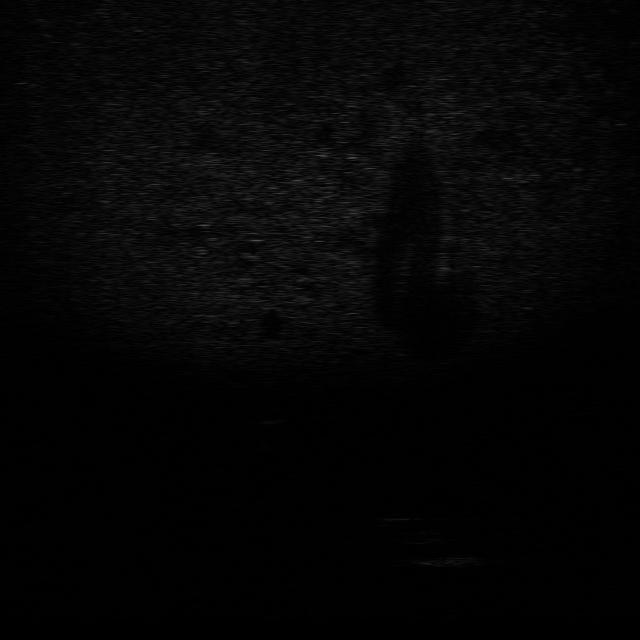ball: (250, 403, 290, 428)
metal bucket: (410, 552, 495, 573)
tyre: (376, 512, 442, 546)
